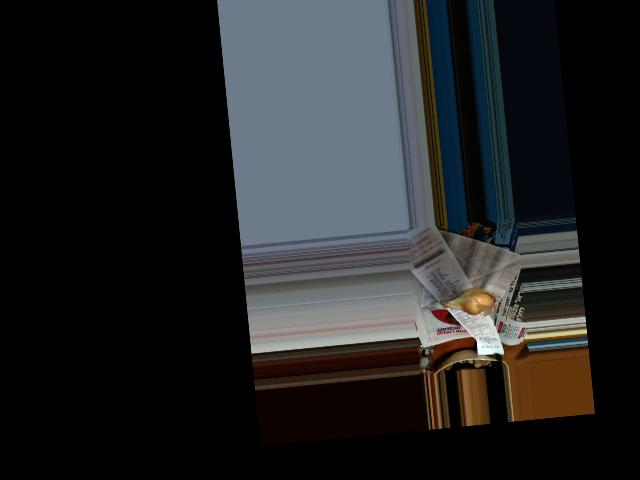onion: (449, 286, 497, 318)
